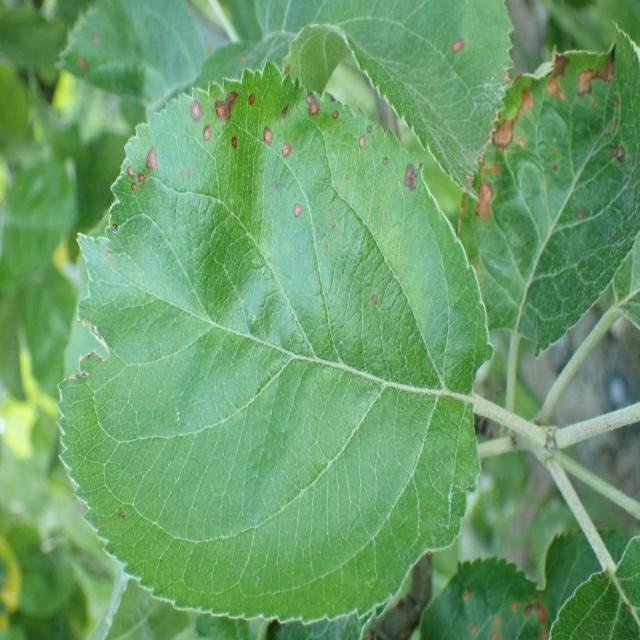Black Rot: (458, 21, 623, 280), (180, 66, 244, 160), (127, 142, 172, 216), (436, 13, 474, 71), (402, 154, 430, 207), (298, 78, 320, 131), (244, 76, 263, 124), (288, 194, 306, 233), (326, 99, 351, 127), (375, 144, 394, 180), (282, 143, 299, 173), (278, 97, 295, 126), (258, 120, 273, 147), (356, 134, 370, 154)
